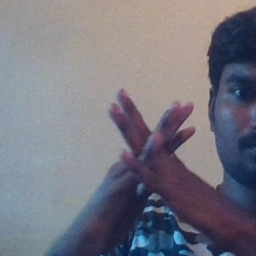W: (97, 78, 208, 227)
